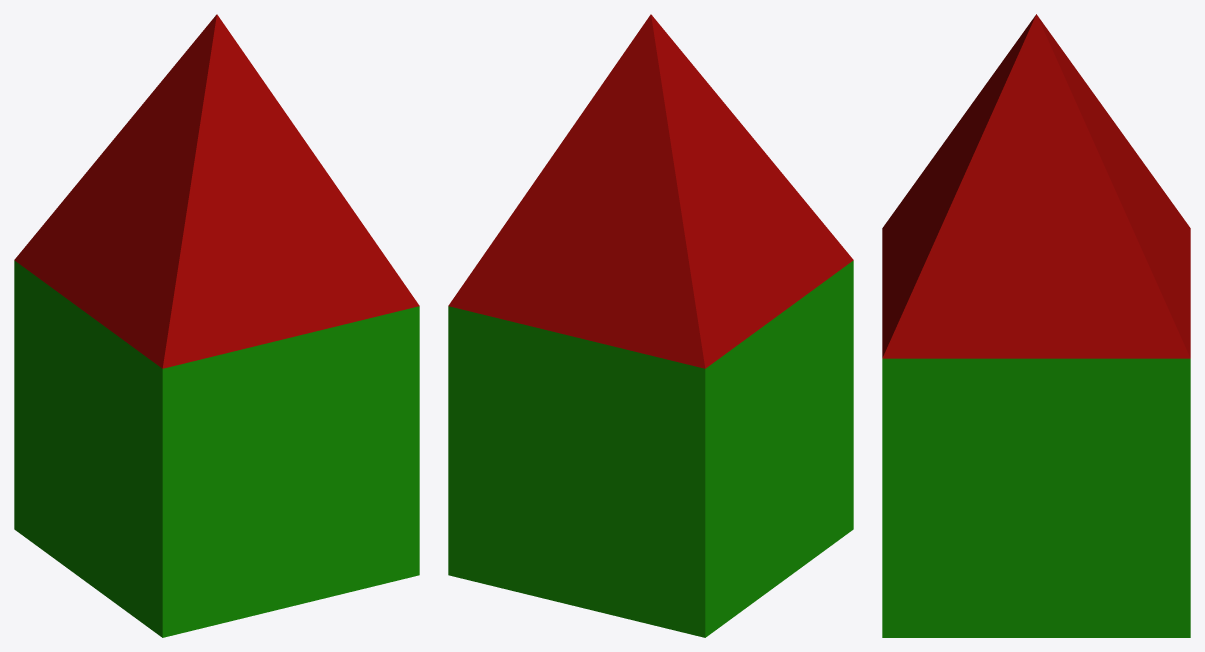
The model's file is haus.obj.
3 views of the same model, side by side, from view 1: azimuth 30°, elevation 25°; view 2: azimuth 150°, elevation 25°; view 3: azimuth 270°, elevation 25° (orthographic). The views are drawn at different scales.
Parts seen in each view (by area): view 1: Cube, Plane; view 2: Cube, Plane; view 3: Cube, Plane.
Boxes of the visible parts, bbox=[...] form: Cube: bbox=[14, 260, 419, 637]; Plane: bbox=[14, 14, 419, 368]; Cube: bbox=[448, 260, 853, 637]; Plane: bbox=[448, 14, 853, 368]; Cube: bbox=[882, 358, 1190, 637]; Plane: bbox=[882, 14, 1190, 358].
Bounding box in the file's own units: 2 × 4 × 2.
